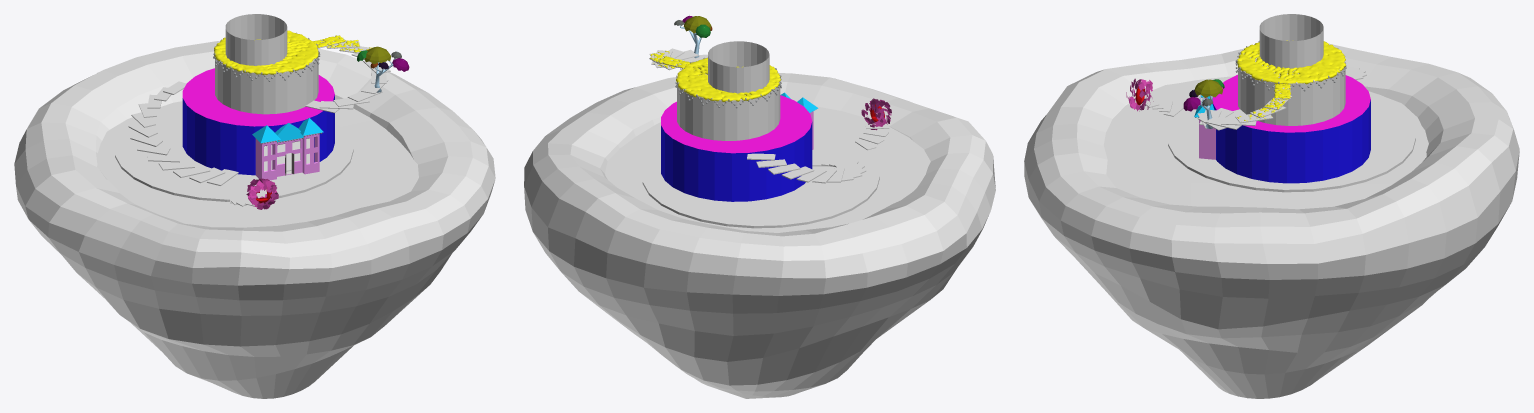
Rendered from caketown_aninasi.fbx.
3 views of the same model, side by side, from view 1: azimuth 30°, elevation 25°; view 2: azimuth 150°, elevation 25°; view 3: azimuth 270°, elevation 25° (orthographic). The views are drawn at different scales.
Visible parts, largest first — view 1: island, lake, cake1, floor1, stairs, cake2, cake3, entrance, snow, umbrella_tree, heartbench, infloor1; view 2: island, cake1, floor1, lake, cake2, stairs, cake3, snow, umbrella_tree, heartbench; view 3: island, lake, cake1, floor1, cake2, cake3, snow, stairs, umbrella_tree, entrance, heartbench.
Boxes of the visible parts, x1,y1,x2,y2 form: island: (14,41,495,398); lake: (97,101,418,227); cake1: (182,68,334,175); floor1: (115,104,353,201); stairs: (128,35,390,206); cake2: (215,42,318,114); cake3: (225,14,287,65); entrance: (252,118,323,180); snow: (214,30,372,74); umbrella_tree: (357,46,409,92); heartbench: (246,178,278,209); infloor1: (264,138,309,171); island: (524,73,995,398); cake1: (661,95,812,201); floor1: (642,131,879,228); lake: (605,101,930,232); cake2: (677,68,780,140); stairs: (649,48,889,183); cake3: (708,41,769,93); snow: (650,51,780,101); umbrella_tree: (674,15,712,58); heartbench: (861,98,891,130); island: (1024,43,1519,398); lake: (1103,76,1428,209); cake1: (1212,74,1370,183); floor1: (1168,97,1415,192); cake2: (1238,52,1345,125); cake3: (1259,14,1323,68); snow: (1237,40,1345,121); stairs: (1143,65,1366,130); umbrella_tree: (1183,79,1224,128); entrance: (1194,95,1215,159); heartbench: (1126,78,1153,111).
Size of the model in its own units: 5897 by 4834 by 5902.
